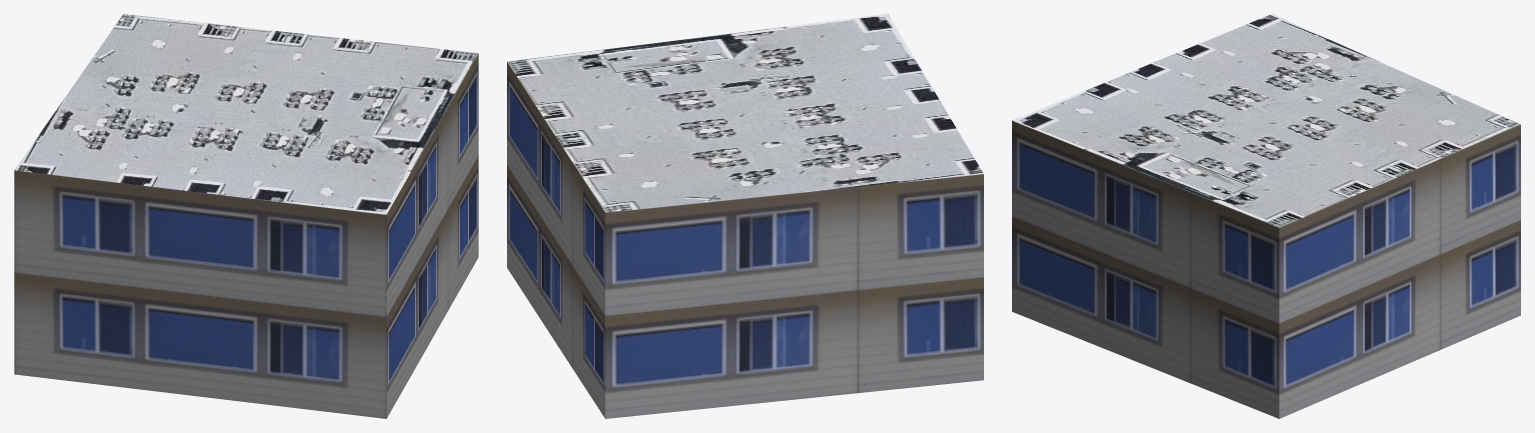
The model's file is ResTex__3507.fbx.
3 views of the same model, side by side, from view 1: azimuth 30°, elevation 25°; view 2: azimuth 150°, elevation 25°; view 3: azimuth 270°, elevation 25° (orthographic). The views are drawn at different scales.
Visible parts, largest first — view 1: CityEngineMaterial_23_m, CityEngineMaterial_m; view 2: CityEngineMaterial_23_m, CityEngineMaterial_m; view 3: CityEngineMaterial_23_m, CityEngineMaterial_m.
Boxes of the visible parts, x1,y1,x2,y2 form: CityEngineMaterial_23_m: [14, 53, 478, 418]; CityEngineMaterial_m: [14, 14, 478, 214]; CityEngineMaterial_23_m: [507, 62, 983, 418]; CityEngineMaterial_m: [507, 14, 983, 212]; CityEngineMaterial_23_m: [1012, 121, 1520, 418]; CityEngineMaterial_m: [1012, 14, 1520, 227].
Size of the model in its own units: 14.4 by 6 by 14.48.
Materials: 2 (2 with a texture image).
